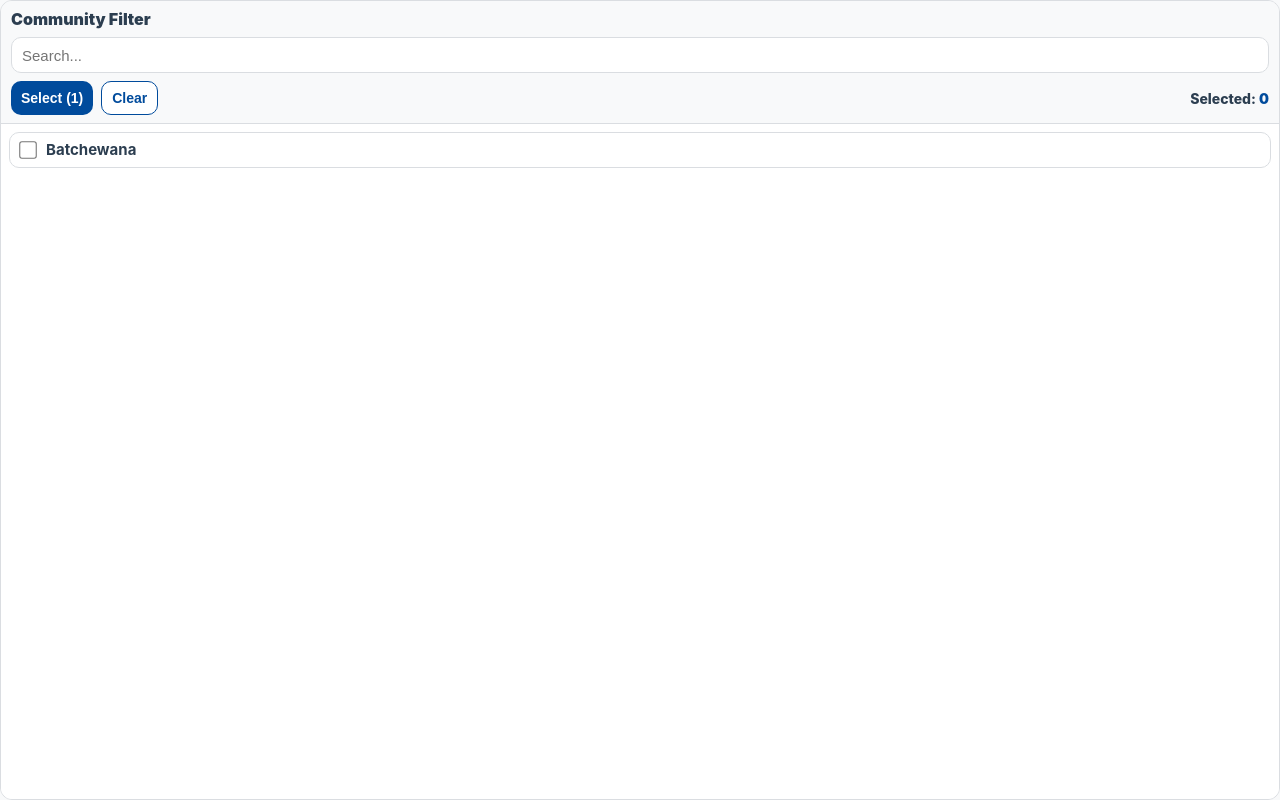
Test case: CommunityFilter › toggle selection via checkbox click (select + unselect) updates selected count and checkbox
The width and height of the screenshot is (1280, 800).
Check: the element named "Selected count 0" is shown, box [1190,90,1269,106]
Click the checkbox.
click(28, 150)  # box [19,141,37,159]
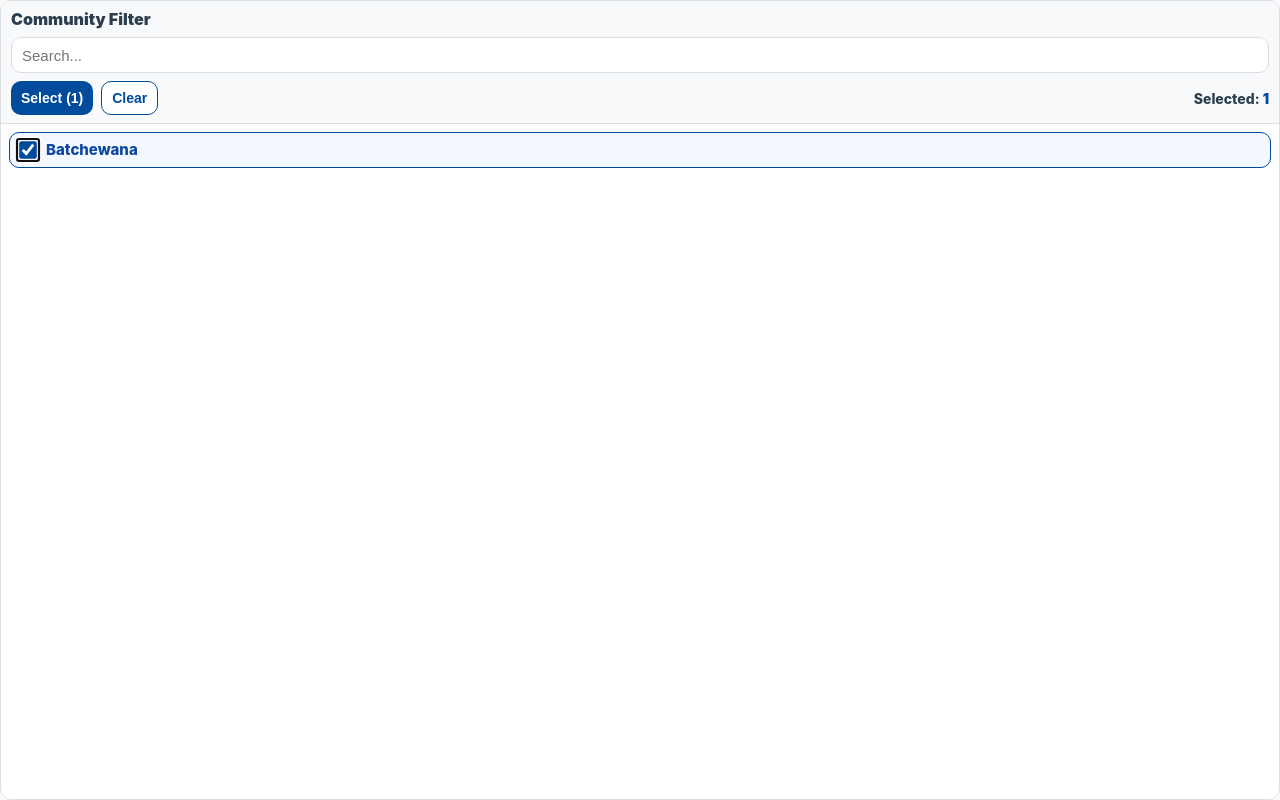
Check: the checkbox is checked
Check: the element named "Selected count 1" is shown, box [1194,90,1269,106]
Click the checkbox.
click(28, 150)  # box [19,141,37,159]
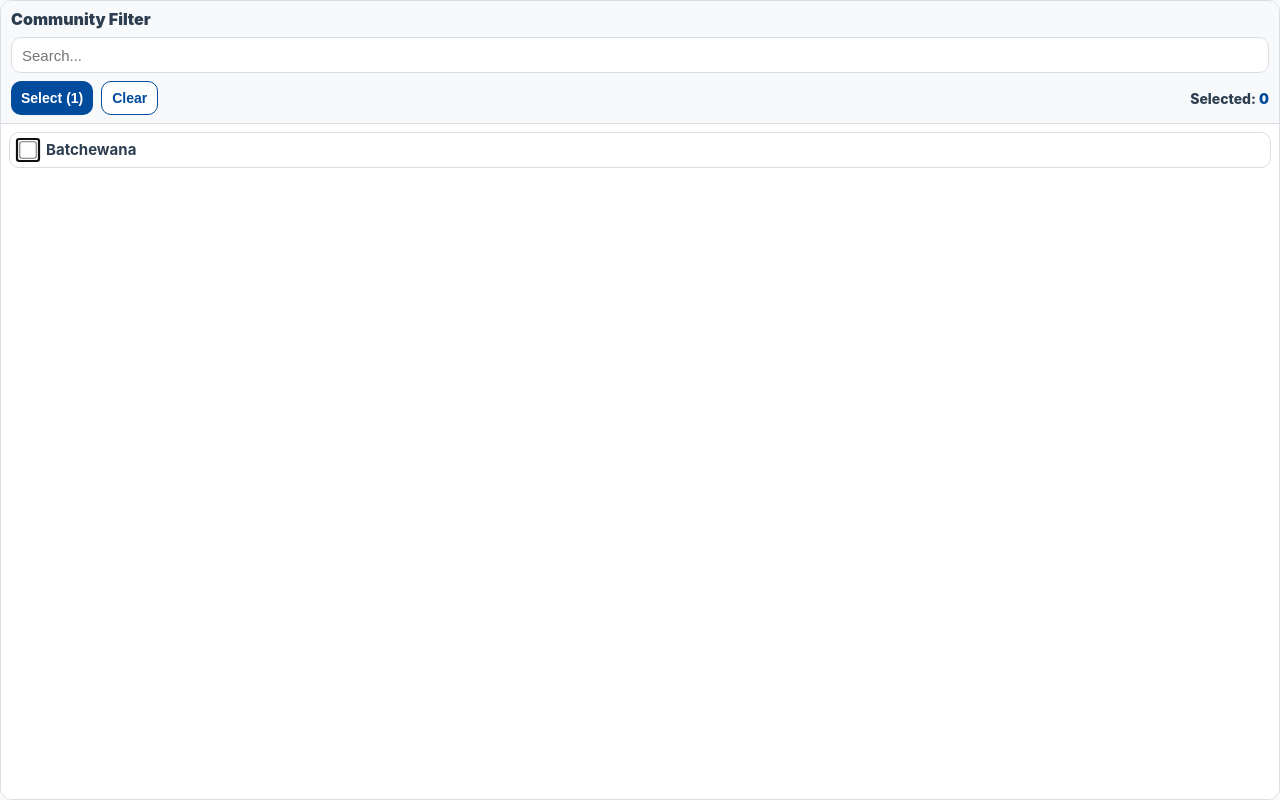
Check: the checkbox is not checked, box [19,141,37,159]
Check: the element named "Selected count 0" is shown, box [1190,90,1269,106]
